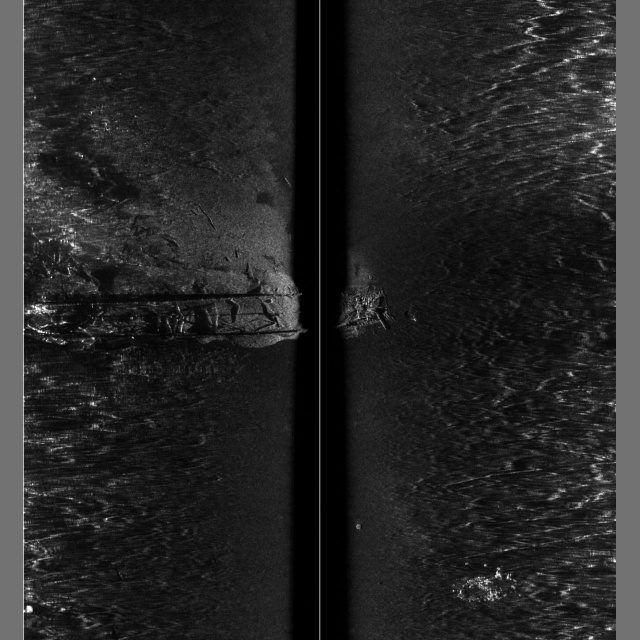Shipwreck: (25, 164, 398, 338)
